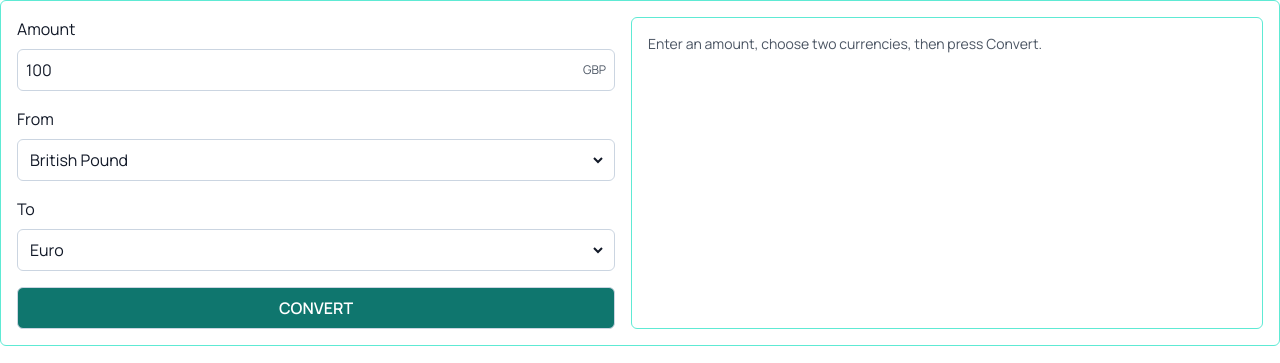
Test: CurrencyForm › disables convert when the same currency is selected twice
Check: the dropdown labelled "From" is shown, box [26,148,606,172]
Select "British Pound" in the dropdown labelled "To". click: (316, 250)
box: [26,238,606,262]
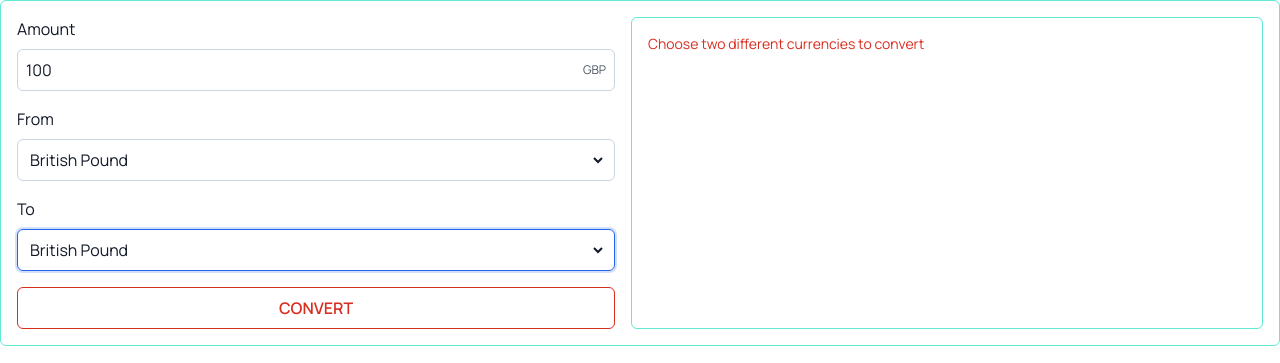
Check: the button "CONVERT" is disabled, box [17,287,615,329]
Check: the text "Choose two different currencies to convert" is shown, box [648,34,924,53]
